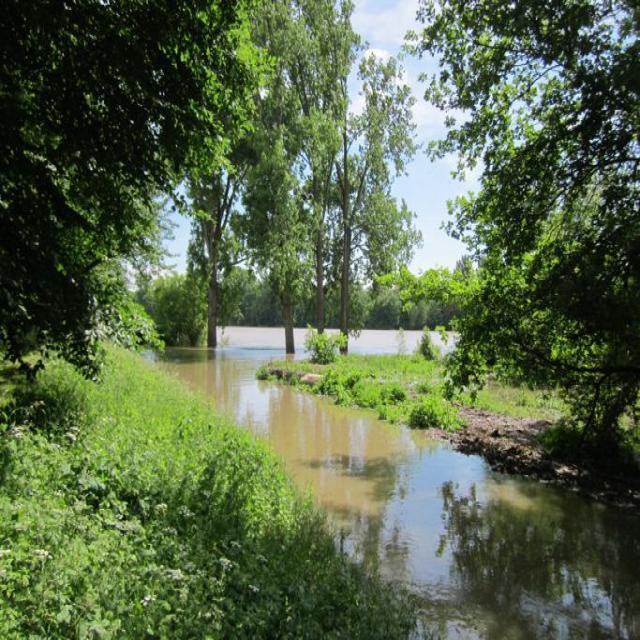flood: (160, 334, 624, 640)
